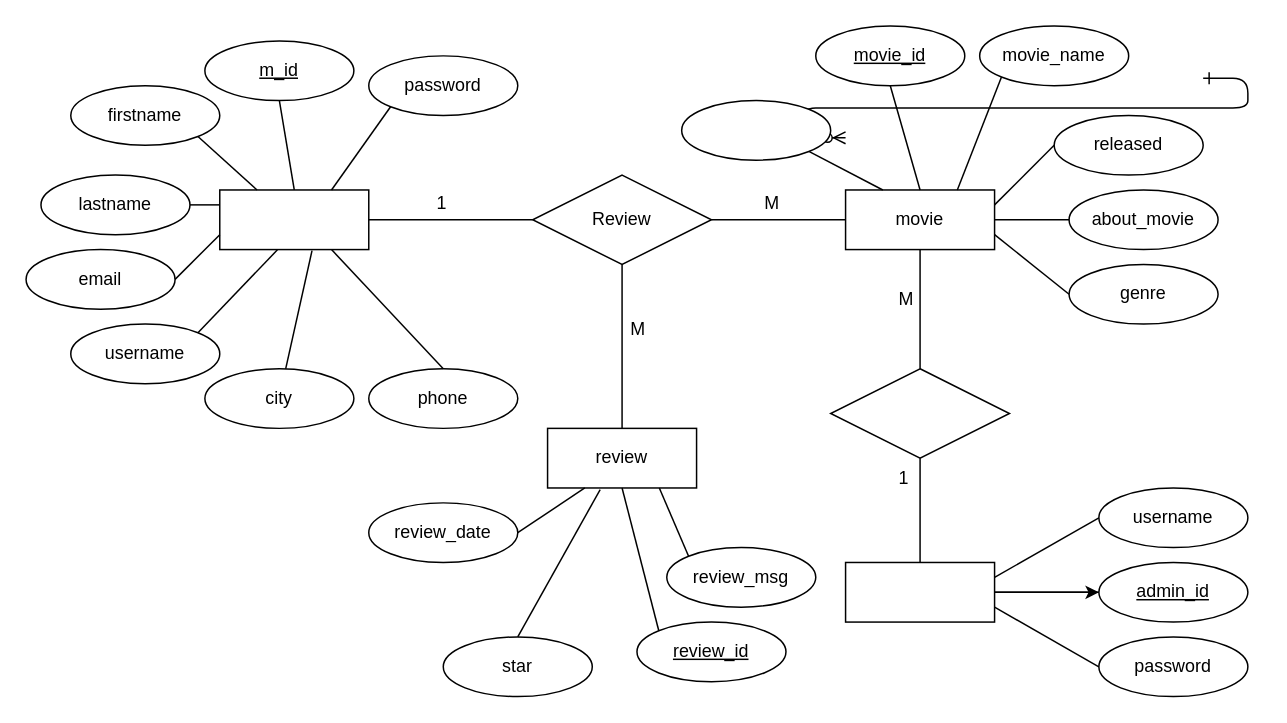
The diagram is 1287 pixels wide and 723 high, and some of its shapes have lost their labels. The centre of each missing label's shape, as x and y in pixels:
admin: point 919,591
img_name: point 755,129
Manage: point 919,412
members: point 293,219
